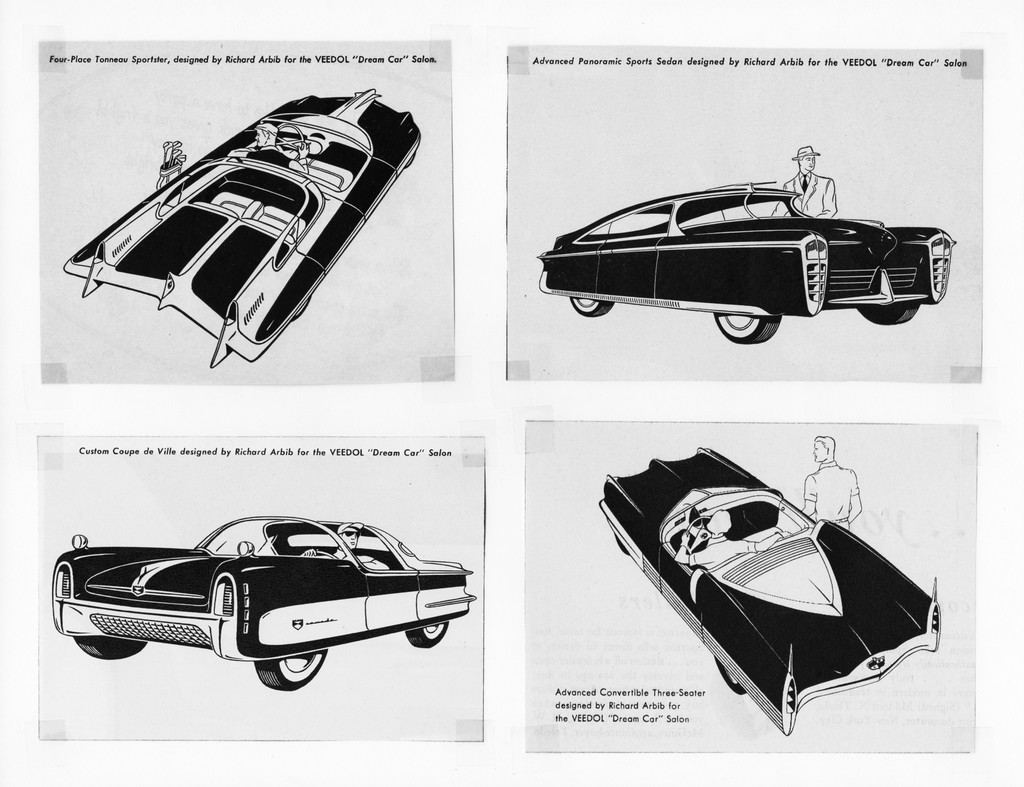Car: (58, 82, 423, 368), (591, 441, 938, 735), (57, 508, 476, 683), (534, 170, 955, 344)
